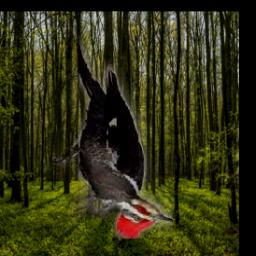Woodpecker: (53, 35, 174, 239)
